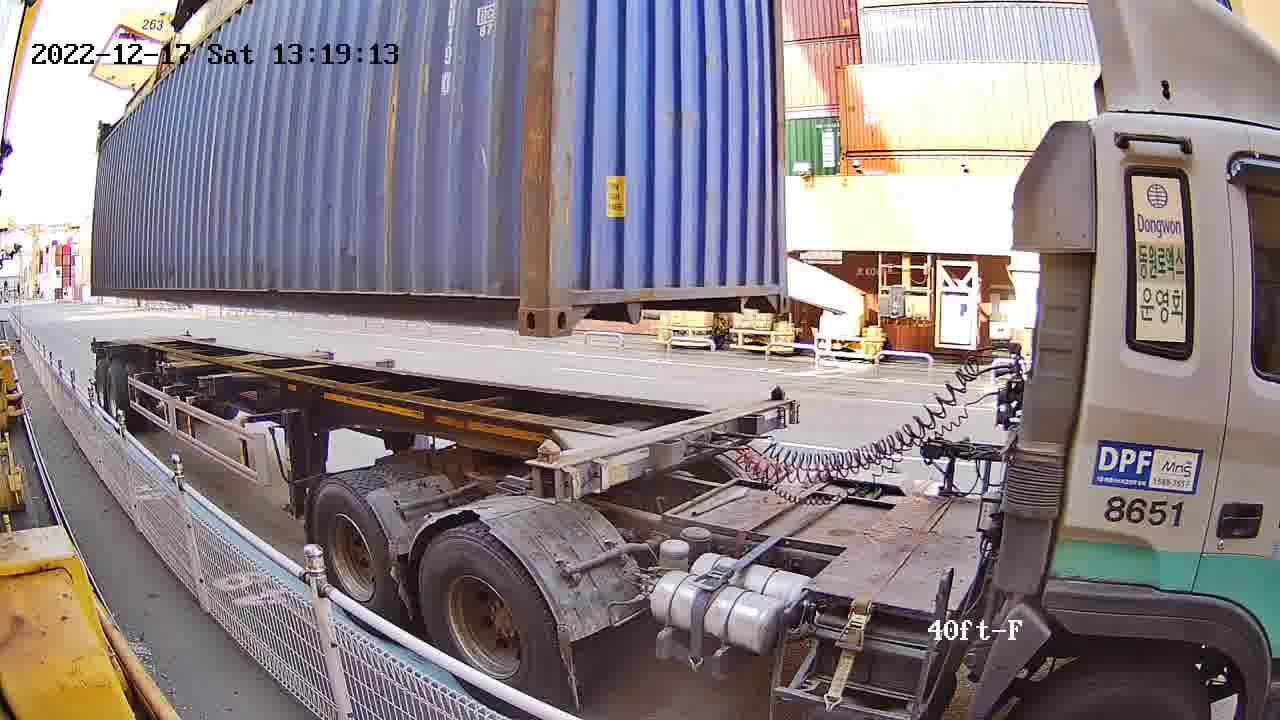Chassis: (540, 394, 793, 497)
Cone: (531, 437, 564, 501), (766, 383, 797, 424)
Hole_L: (549, 285, 596, 338)
Hole_R: (492, 279, 549, 339), (743, 265, 789, 314)
Tire: (418, 532, 556, 696), (307, 482, 397, 617)
